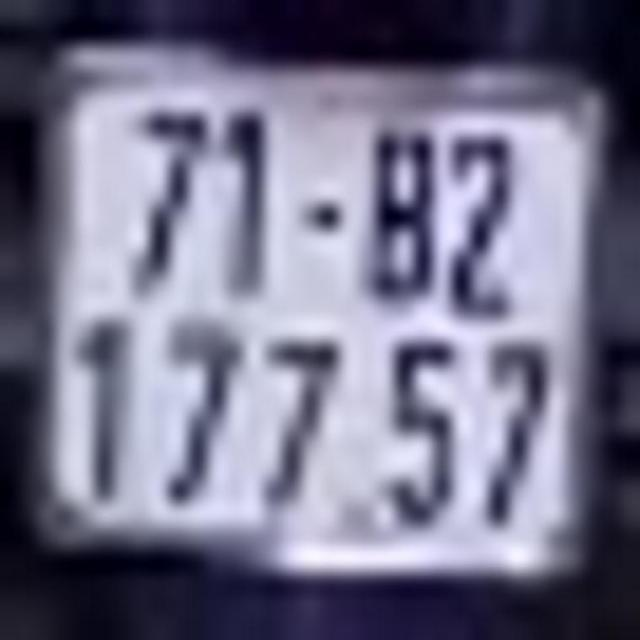1: (70, 308, 132, 506), (218, 105, 276, 297)
2: (445, 118, 528, 318)
5: (380, 318, 455, 524)
7: (115, 97, 215, 305), (144, 316, 243, 510), (250, 328, 345, 522), (479, 337, 557, 536)
B: (368, 121, 442, 314)
